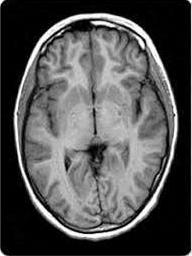Normal_Brain: (1, 1, 192, 256)
